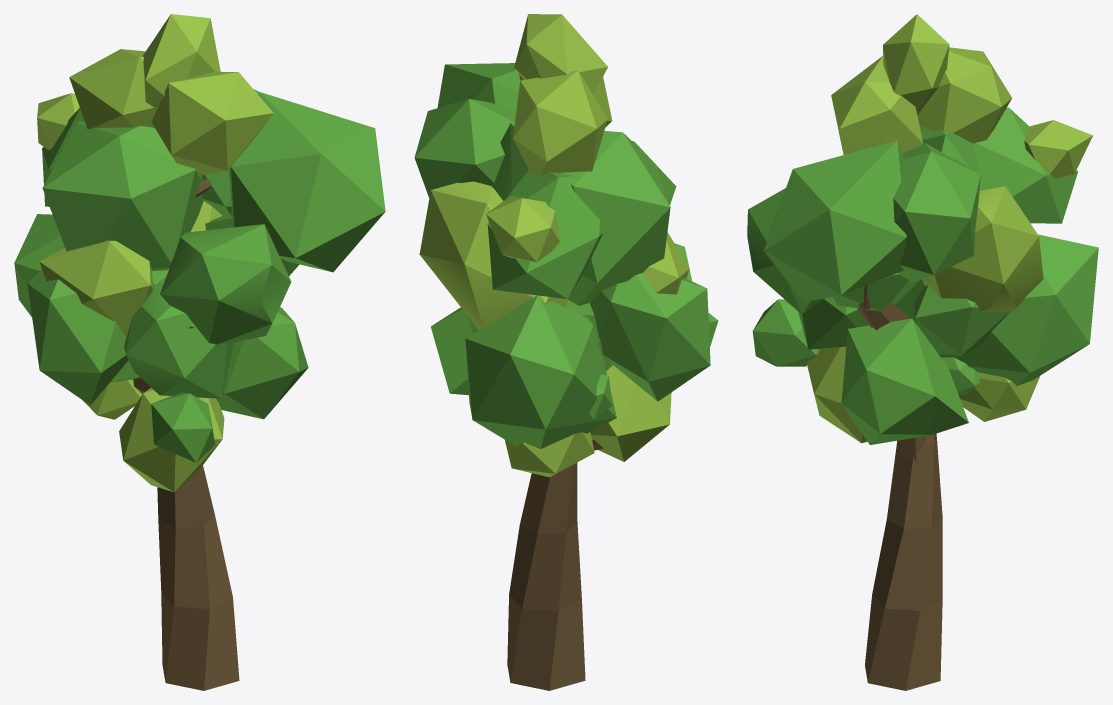
The model's file is tree1.fbx.
The picture shows the model from 3 angles, left to right: view 1: azimuth 30°, elevation 25°; view 2: azimuth 150°, elevation 25°; view 3: azimuth 270°, elevation 25°; orthographic projection. The views are drawn at different scales.
Visible parts, largest first — view 1: sceneSetting1:pPlatonic12, sceneSetting1:pPlatonic7, sceneSetting1:Toter_Baum, sceneSetting1:pPlatonic19, sceneSetting1:pPlatonic27, sceneSetting1:pPlatonic14, sceneSetting1:pPlatonic20, sceneSetting1:pPlatonic24, sceneSetting1:pPlatonic28, sceneSetting1:pPlatonic13, sceneSetting1:pPlatonic11, sceneSetting1:pPlatonic18 (+6 smaller); view 2: sceneSetting1:pPlatonic22, sceneSetting1:Toter_Baum, sceneSetting1:pPlatonic7, sceneSetting1:pPlatonic14, sceneSetting1:pPlatonic5, sceneSetting1:pPlatonic13, sceneSetting1:pPlatonic6, sceneSetting1:pPlatonic21, sceneSetting1:pPlatonic11, sceneSetting1:pPlatonic18, sceneSetting1:pPlatonic25, sceneSetting1:pPlatonic12 (+5 smaller); view 3: sceneSetting1:Toter_Baum, sceneSetting1:pPlatonic12, sceneSetting1:pPlatonic28, sceneSetting1:pPlatonic22, sceneSetting1:pPlatonic21, sceneSetting1:pPlatonic5, sceneSetting1:pPlatonic6, sceneSetting1:pPlatonic13, sceneSetting1:pPlatonic27, sceneSetting1:pPlatonic11, sceneSetting1:pPlatonic4, sceneSetting1:pPlatonic26 (+9 smaller).
Part boxes in pixels (box(x1,y1,x2,y2)): sceneSetting1:pPlatonic12: box(228, 92, 385, 272); sceneSetting1:pPlatonic7: box(42, 121, 203, 270); sceneSetting1:Toter_Baum: box(133, 179, 239, 690); sceneSetting1:pPlatonic19: box(160, 224, 291, 344); sceneSetting1:pPlatonic27: box(151, 71, 273, 175); sceneSetting1:pPlatonic14: box(27, 246, 128, 405); sceneSetting1:pPlatonic20: box(124, 277, 233, 398); sceneSetting1:pPlatonic24: box(39, 240, 153, 336); sceneSetting1:pPlatonic28: box(216, 307, 308, 419); sceneSetting1:pPlatonic13: box(69, 49, 157, 129); sceneSetting1:pPlatonic11: box(143, 14, 220, 107); sceneSetting1:pPlatonic18: box(119, 387, 224, 492); sceneSetting1:pPlatonic22: box(465, 295, 616, 448); sceneSetting1:Toter_Baum: box(507, 439, 603, 690); sceneSetting1:pPlatonic7: box(491, 123, 670, 305); sceneSetting1:pPlatonic14: box(589, 273, 710, 401); sceneSetting1:pPlatonic5: box(419, 181, 567, 329); sceneSetting1:pPlatonic13: box(513, 70, 607, 175); sceneSetting1:pPlatonic6: box(487, 170, 603, 299); sceneSetting1:pPlatonic21: box(414, 98, 516, 197); sceneSetting1:pPlatonic11: box(514, 14, 607, 94); sceneSetting1:pPlatonic18: box(590, 365, 671, 461); sceneSetting1:pPlatonic25: box(486, 196, 559, 262); sceneSetting1:pPlatonic12: box(437, 63, 519, 111); sceneSetting1:Toter_Baum: box(857, 285, 942, 690); sceneSetting1:pPlatonic12: box(764, 140, 906, 301); sceneSetting1:pPlatonic28: box(841, 318, 968, 444); sceneSetting1:pPlatonic22: box(939, 234, 1098, 385); sceneSetting1:pPlatonic21: box(893, 143, 980, 282); sceneSetting1:pPlatonic5: box(922, 186, 1043, 312); sceneSetting1:pPlatonic6: box(973, 107, 1077, 223); sceneSetting1:pPlatonic13: box(917, 47, 1011, 143); sceneSetting1:pPlatonic27: box(831, 55, 923, 154); sceneSetting1:pPlatonic11: box(883, 14, 949, 115); sceneSetting1:pPlatonic4: box(914, 285, 1010, 355); sceneSetting1:pPlatonic26: box(752, 299, 819, 366).
Size of the model in its own units: 60.13 by 123 by 60.61.
